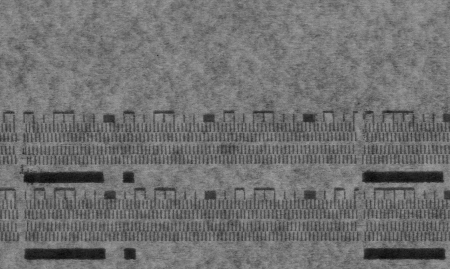Oblique printing: (22, 120, 37, 166)
